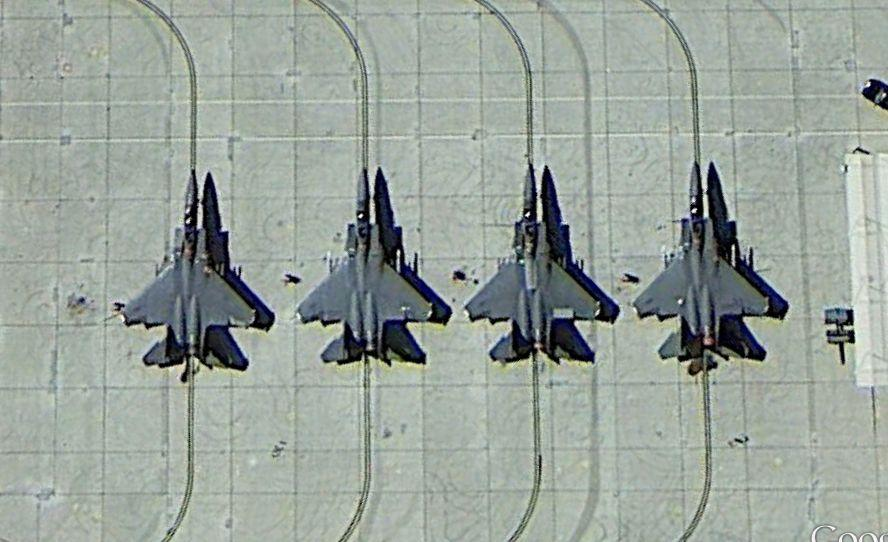F-15: (626, 161, 785, 373), (110, 162, 266, 374), (468, 159, 612, 367), (296, 170, 442, 372)
